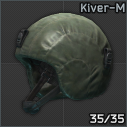FORT Kiver-M bulletproof helmet: (0, 0, 127, 127)
